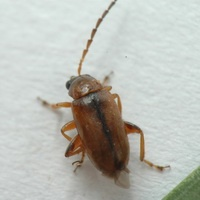insect: (38, 0, 169, 187)
